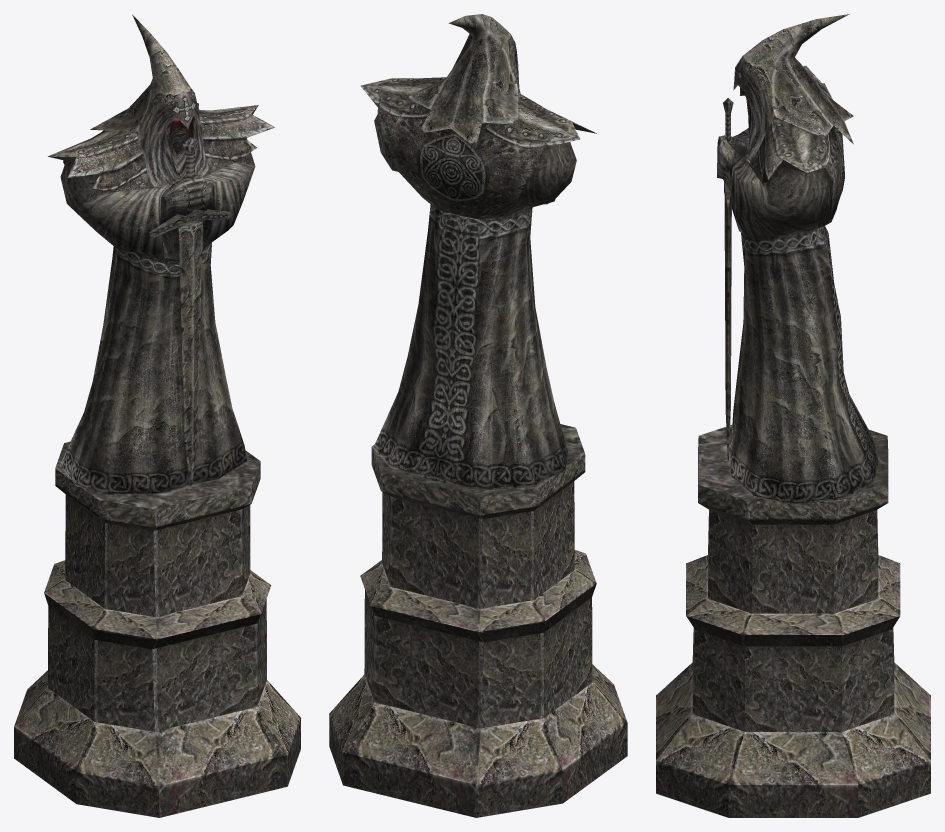
Rendered from statue-Monk-01.FBX.
3 views of the same model, side by side, from view 1: azimuth 30°, elevation 25°; view 2: azimuth 150°, elevation 25°; view 3: azimuth 270°, elevation 25° (orthographic). The views are drawn at different scales.
Parts seen in each view (by area): view 1: statue-Monk-01; view 2: statue-Monk-01; view 3: statue-Monk-01.
Part boxes in pixels (x1=…): statue-Monk-01: x1=14, y1=14, x2=300, y2=817; statue-Monk-01: x1=329, y1=14, x2=627, y2=817; statue-Monk-01: x1=656, y1=14, x2=930, y2=817.
Size of the model in its own units: 2.54 by 7.78 by 2.59.
